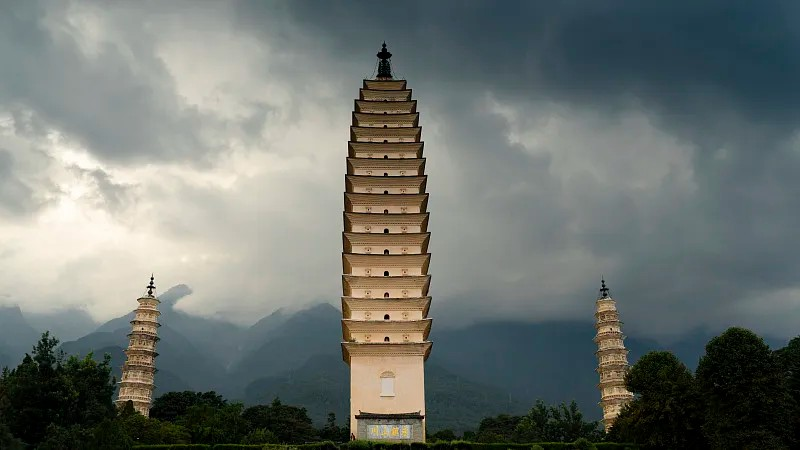ThreePagoda: (341, 41, 432, 441)
